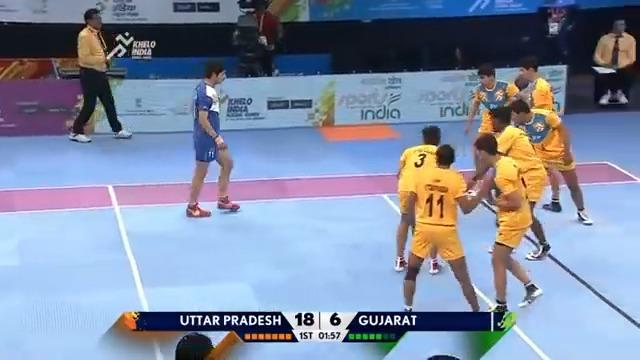Player: (465, 132, 543, 314), (510, 57, 593, 225), (400, 143, 481, 312), (462, 62, 519, 224), (67, 7, 132, 142), (393, 124, 444, 274), (592, 18, 636, 105)
Raider: (185, 63, 240, 218)
referee: (231, 0, 283, 77), (534, 0, 578, 65)
